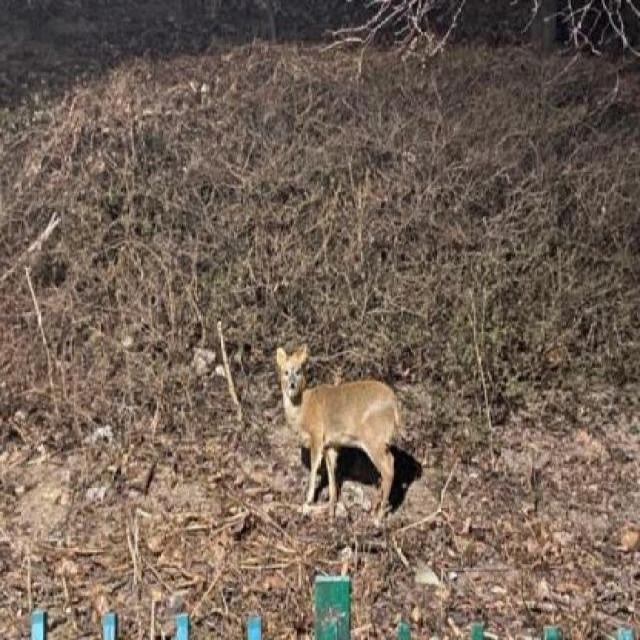deer: (271, 325, 407, 543)
